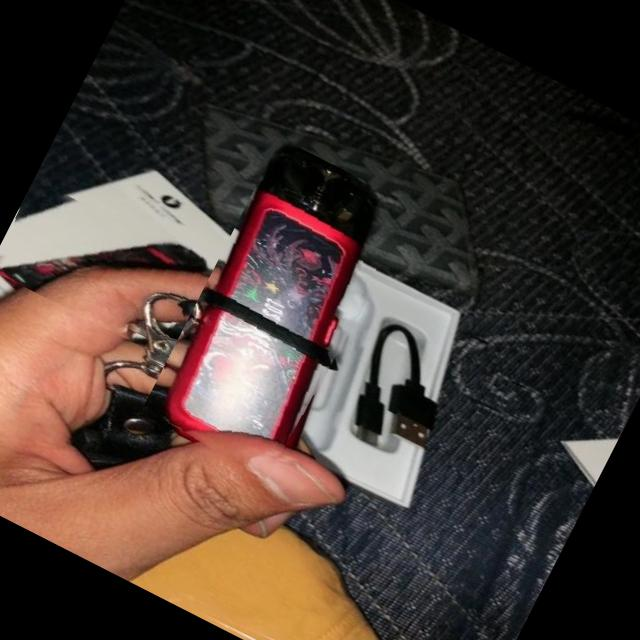Hazard: (137, 138, 418, 486), (0, 169, 209, 356)
